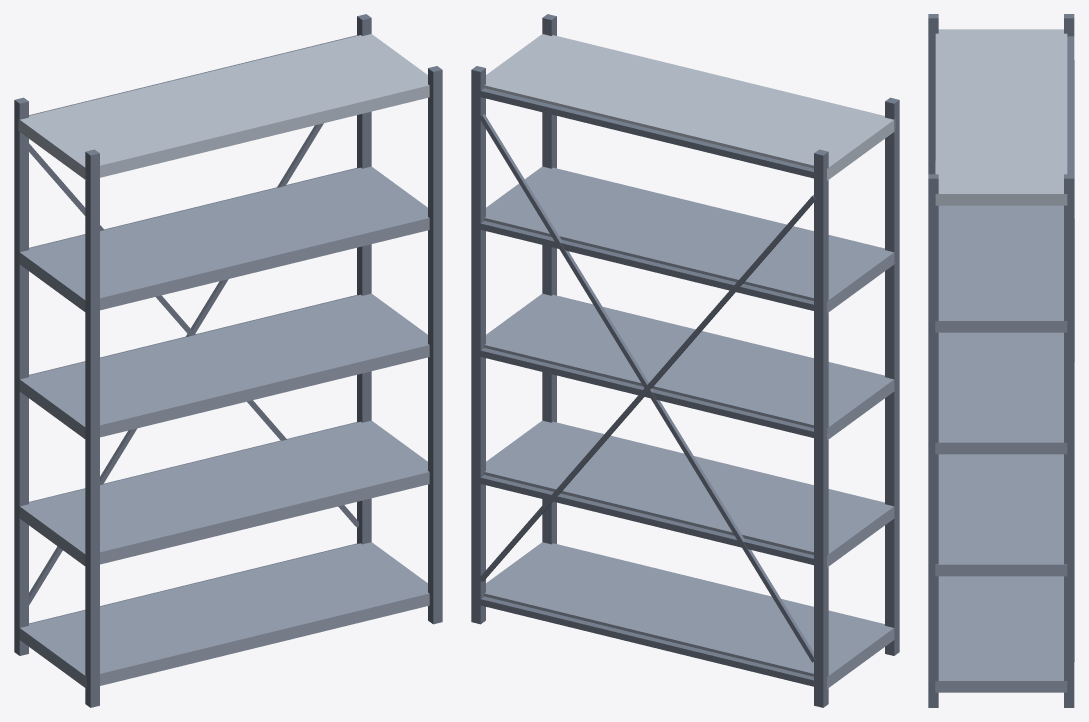
Rendered from 货架-lite.glb.
The picture shows the model from 3 angles, left to right: view 1: azimuth 30°, elevation 25°; view 2: azimuth 150°, elevation 25°; view 3: azimuth 270°, elevation 25°; orthographic projection. The views are drawn at different scales.
Visible parts, largest first — view 1: shelf; view 2: shelf; view 3: shelf.
Part boxes in pixels (x1,y1,x2,y2): shelf: (14,14,442,707); shelf: (471,14,899,707); shelf: (928,14,1074,707).
Bounding box in the file's own units: 1.2 × 1.8 × 0.451.
